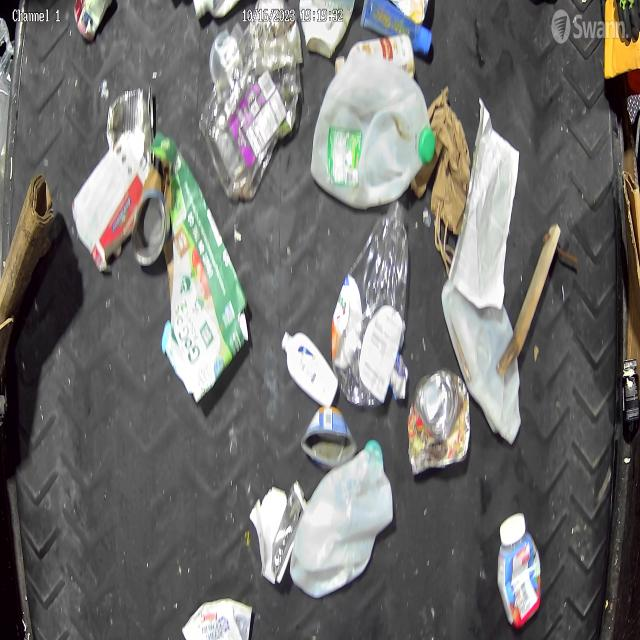can: (405, 365, 472, 479), (299, 404, 358, 471), (105, 81, 156, 158), (131, 189, 169, 269)
milk_jug: (311, 54, 436, 212), (289, 438, 395, 600), (438, 279, 524, 442)
plastic_bottle: (330, 196, 411, 407)
